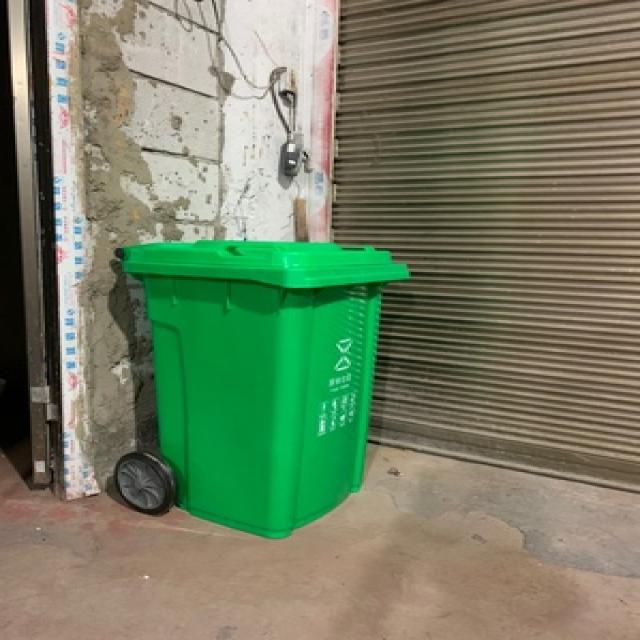ash bin: (109, 237, 407, 536)
